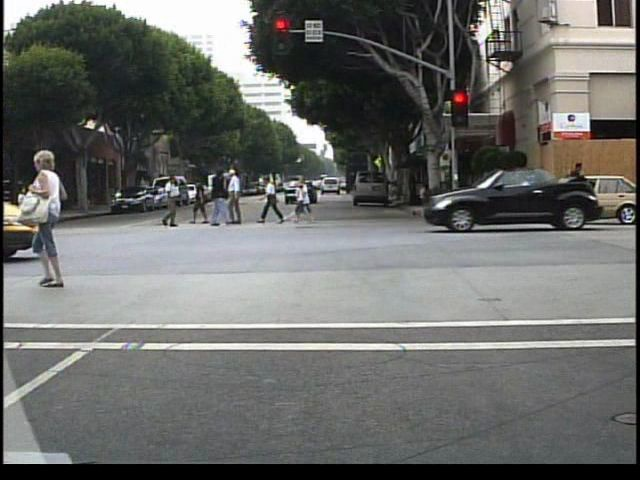person: (33, 148, 89, 294), (207, 168, 233, 232), (227, 166, 253, 227), (154, 173, 181, 231), (260, 174, 288, 228), (13, 193, 45, 240), (564, 156, 586, 215), (193, 177, 213, 229), (11, 181, 32, 208)
